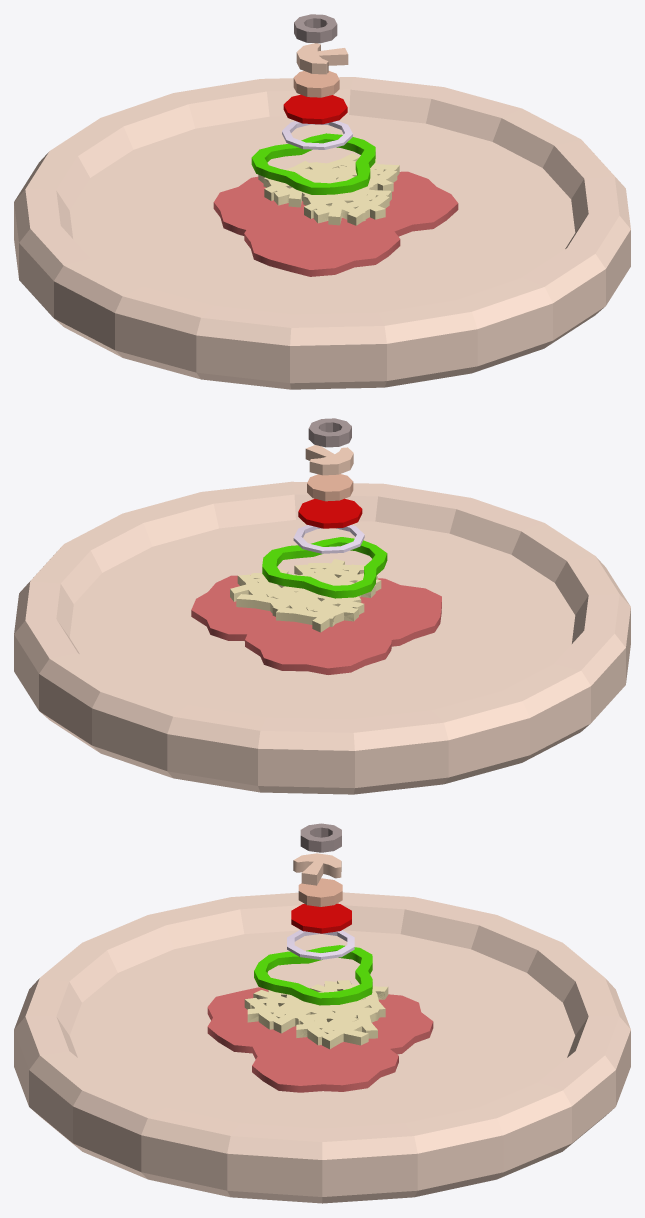
The model's file is Pizzaaa.fbx.
3 views of the same model, one above another, from view 1: azimuth 30°, elevation 25°; view 2: azimuth 150°, elevation 25°; view 3: azimuth 270°, elevation 25° (orthographic).
Visible parts, largest first — view 1: Dough, Souce, Souce1, Souce2, pPipe1, Cheese_Cheese, Cheese_Cheese1, Pepproni, Cheese_Cheese2, Mushroom, Olive, Sausage (+1 smaller); view 2: Dough, Souce1, Souce, pPipe1, Souce2, Cheese_Cheese2, Cheese_Cheese1, Pepproni, Cheese_Cheese, Mushroom, Olive, Sausage (+1 smaller); view 3: Dough, Souce2, pPipe1, Souce1, Cheese_Cheese1, Souce, Cheese_Cheese, Pepproni, Cheese_Cheese2, Mushroom, Olive, Sausage (+1 smaller).
Part boxes in pixels (x1=…): Dough: x1=14, y1=77, x2=630, y2=389; Souce: x1=244, y1=214, x2=400, y2=276; Souce1: x1=213, y1=176, x2=349, y2=238; Souce2: x1=324, y1=171, x2=458, y2=236; pPipe1: x1=251, y1=133, x2=375, y2=194; Cheese_Cheese: x1=301, y1=184, x2=391, y2=225; Cheese_Cheese1: x1=306, y1=153, x2=399, y2=191; Pepproni: x1=283, y1=94, x2=347, y2=124; Cheese_Cheese2: x1=258, y1=161, x2=339, y2=207; Mushroom: x1=296, y1=43, x2=348, y2=74; Olive: x1=294, y1=14, x2=337, y2=43; Sausage: x1=293, y1=71, x2=339, y2=97; Dough: x1=14, y1=481, x2=630, y2=794; Souce1: x1=245, y1=612, x2=392, y2=674; Souce: x1=312, y1=578, x2=441, y2=646; pPipe1: x1=262, y1=537, x2=387, y2=598; Souce2: x1=191, y1=575, x2=312, y2=641; Cheese_Cheese2: x1=270, y1=588, x2=364, y2=632; Cheese_Cheese1: x1=230, y1=569, x2=315, y2=616; Pepproni: x1=298, y1=498, x2=362, y2=528; Cheese_Cheese: x1=294, y1=559, x2=381, y2=597; Mushroom: x1=305, y1=445, x2=353, y2=475; Olive: x1=308, y1=418, x2=351, y2=447; Sausage: x1=307, y1=474, x2=353, y2=501; Dough: x1=14, y1=892, x2=630, y2=1203; Souce2: x1=252, y1=1031, x2=398, y2=1092; pPipe1: x1=254, y1=945, x2=372, y2=1005; Souce1: x1=287, y1=994, x2=433, y2=1054; Cheese_Cheese1: x1=293, y1=1005, x2=379, y2=1049; Souce: x1=207, y1=987, x2=292, y2=1053; Cheese_Cheese: x1=244, y1=990, x2=323, y2=1033; Pepproni: x1=291, y1=903, x2=351, y2=933; Cheese_Cheese2: x1=304, y1=980, x2=388, y2=1022; Mushroom: x1=293, y1=853, x2=341, y2=885; Olive: x1=300, y1=823, x2=341, y2=852; Sausage: x1=298, y1=878, x2=342, y2=906.
Bounding box in the file's own units: 2 × 0.865 × 2.
